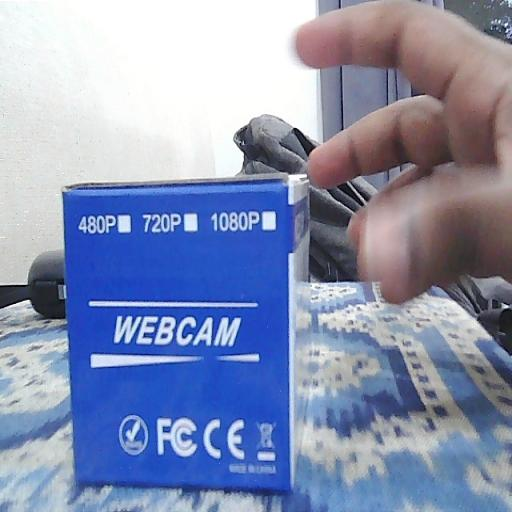webcam_box: (60, 173, 312, 494)
